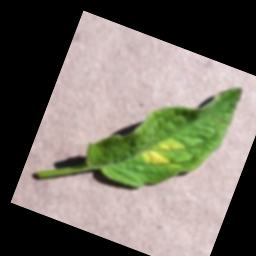Leaf_Mold: (133, 124, 191, 176)
